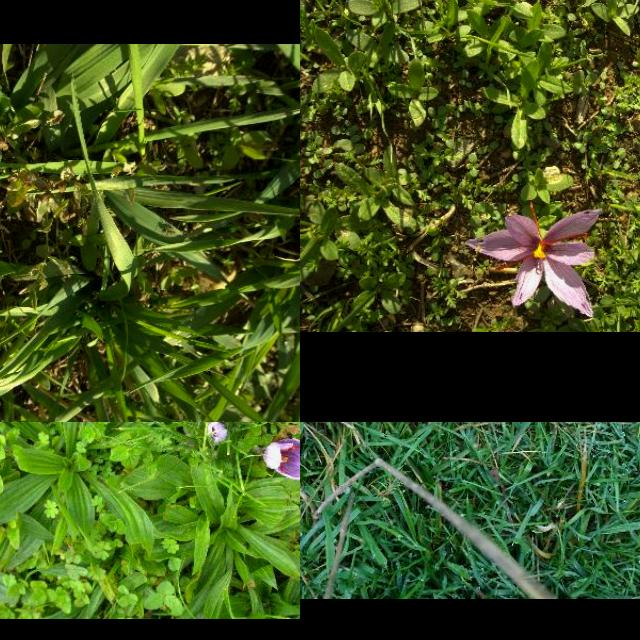flower: (465, 202, 601, 320), (263, 438, 300, 480), (206, 422, 227, 443)
